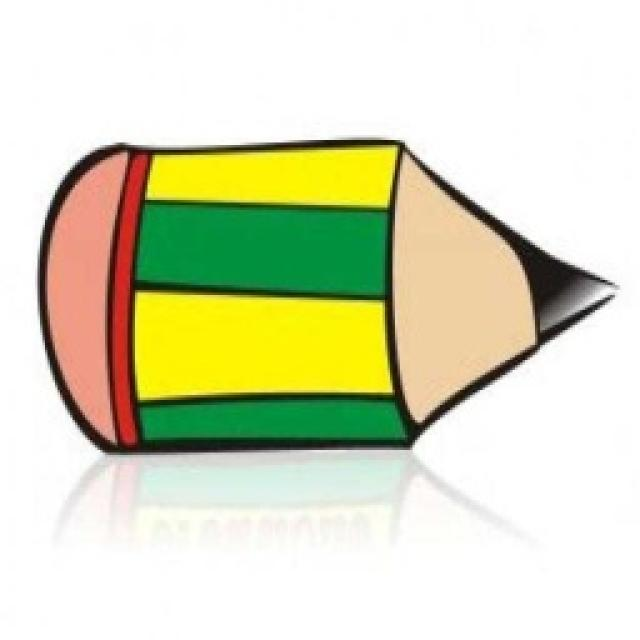pencil: (32, 133, 620, 455)
